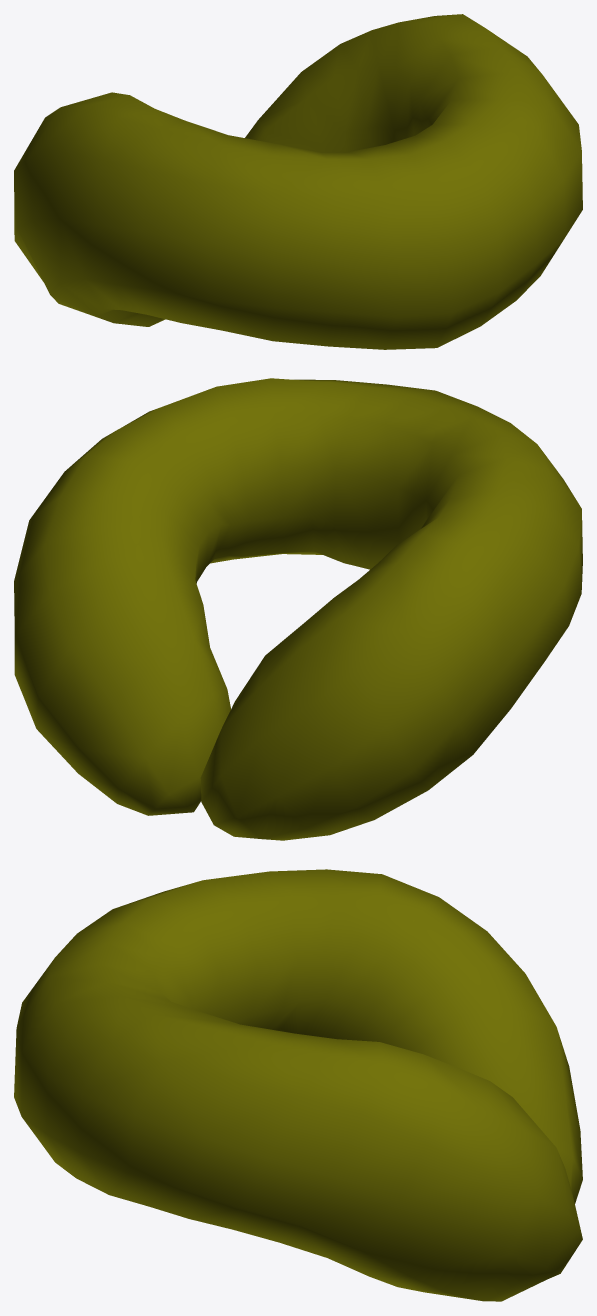
Rendered from weibo.fbx.
The picture shows the model from 3 angles, top to bottom: view 1: azimuth 30°, elevation 25°; view 2: azimuth 150°, elevation 25°; view 3: azimuth 270°, elevation 25°; orthographic projection. The views are drawn at different scales.
Visible parts, largest first — view 1: Messiah_Fur; view 2: Messiah_Fur; view 3: Messiah_Fur.
Boxes of the visible parts, x1,y1,x2,y2 form: Messiah_Fur: [14, 14, 582, 349]; Messiah_Fur: [14, 378, 582, 840]; Messiah_Fur: [14, 869, 582, 1301].
Size of the model in its own units: 0.113 by 0.0657 by 0.112.
